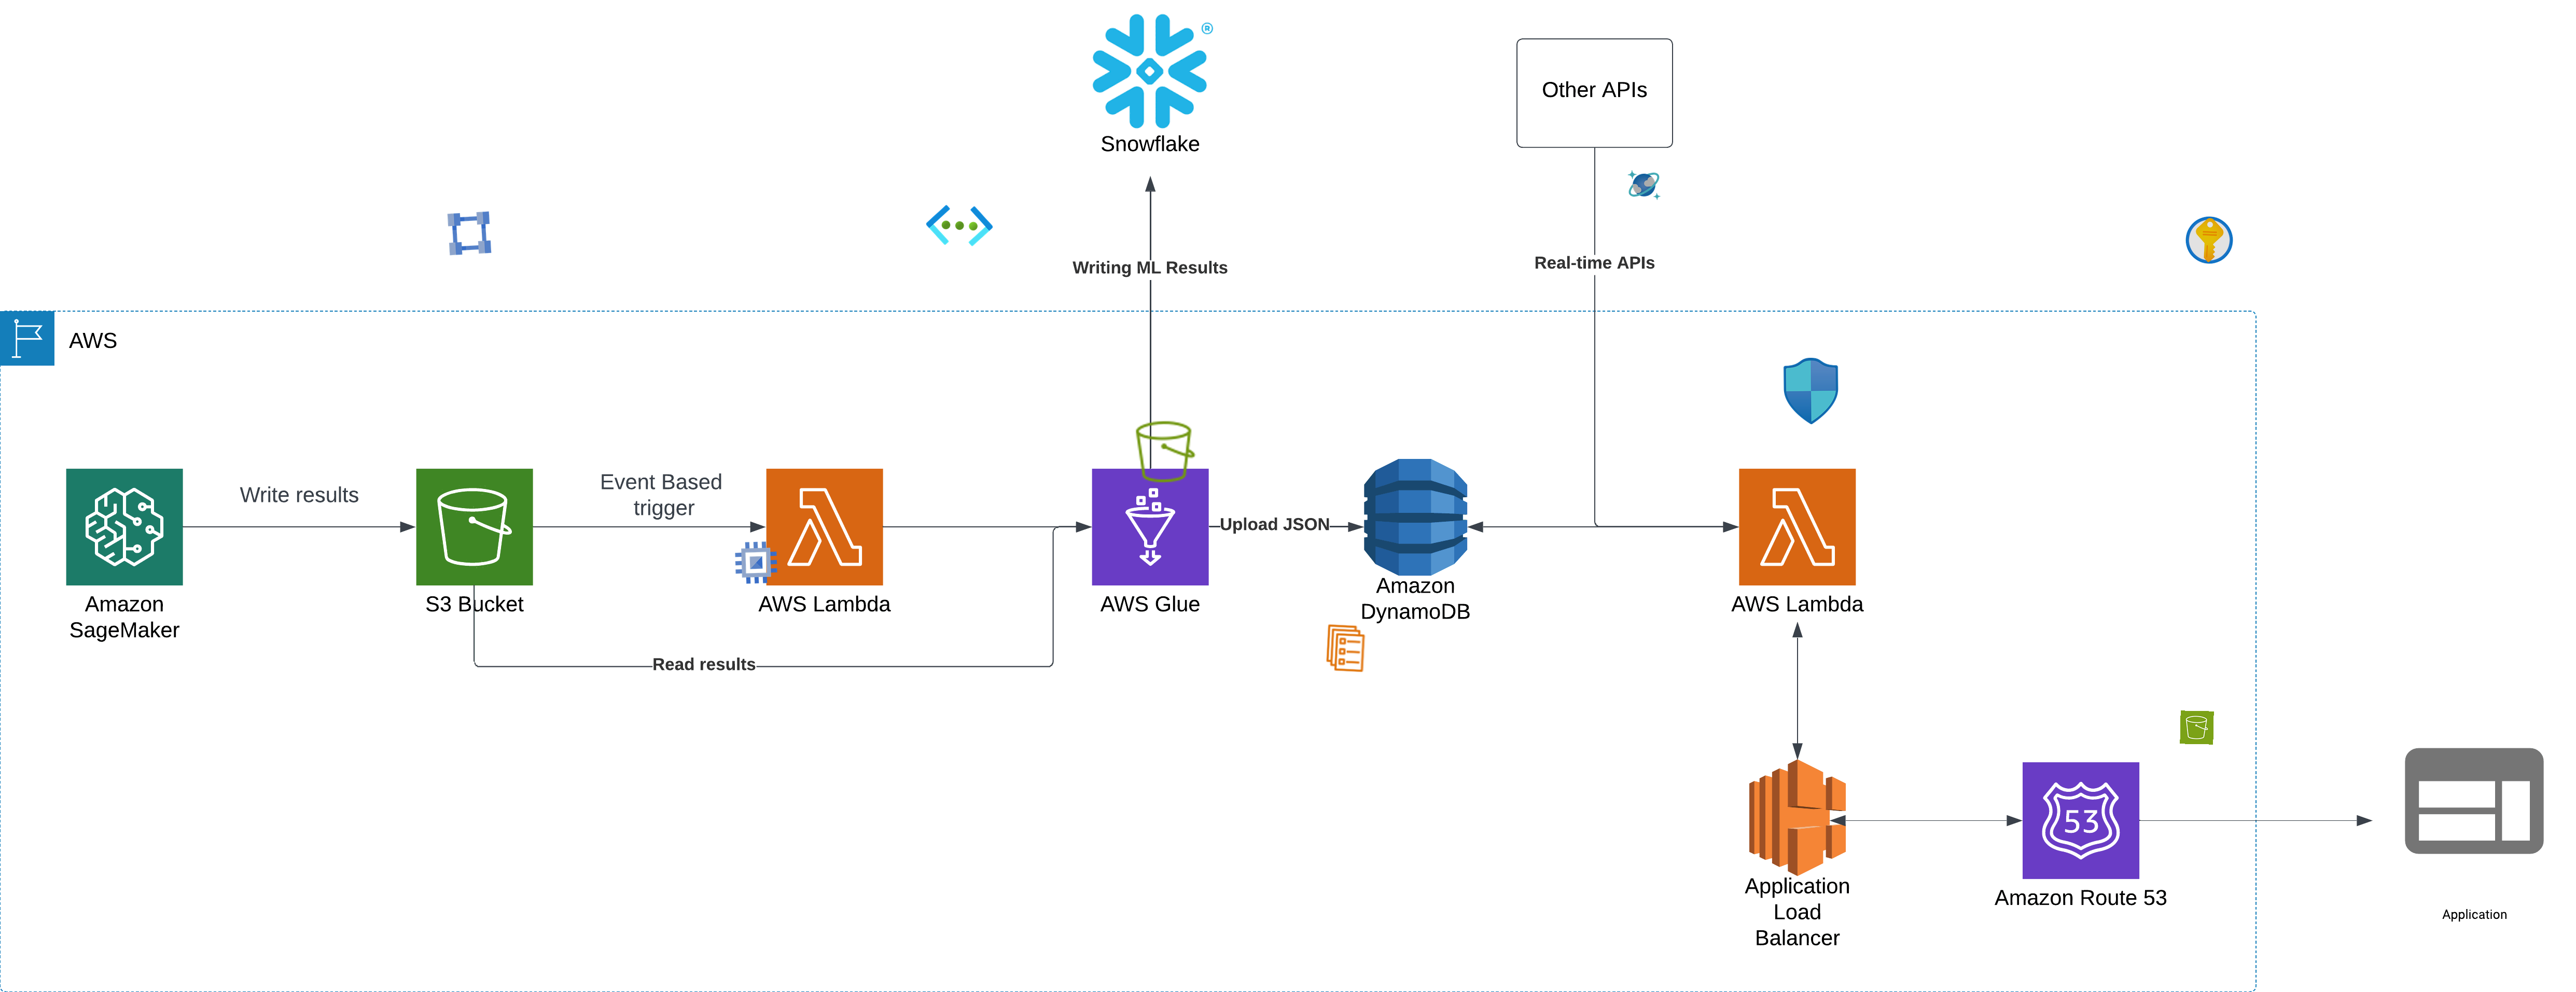aws_amazon_simple_storage_service: (2180, 711, 2215, 744)
aws_elastic_container_service_service: (1319, 622, 1372, 675)
aws_simple_storage_service_s3_standard: (1132, 417, 1199, 486)
azure_cosmos_db: (1626, 168, 1661, 202)
azure_key_vaults: (2183, 214, 2236, 266)
azure_network_security_groups: (1778, 358, 1845, 425)
azure_virtual_networks: (925, 191, 994, 259)
gcp_compute_engine: (729, 537, 782, 588)
gcp_virtual_private_cloud: (444, 207, 496, 259)
